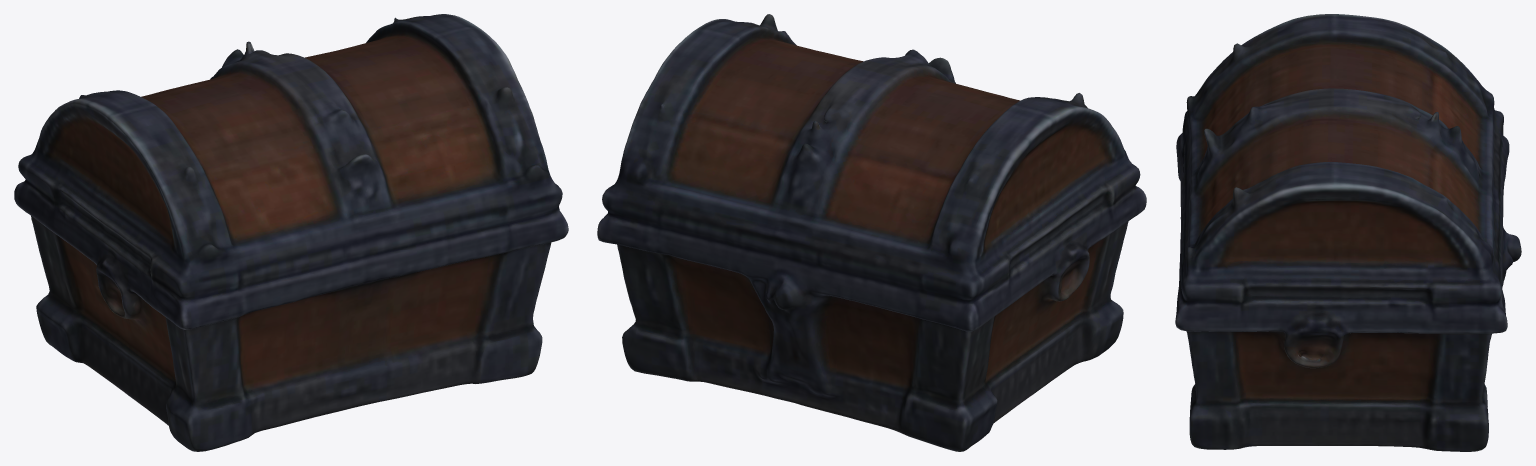
Rendered from 2e5ef06cce29_game_asset_treasure.fbx.
3 views of the same model, side by side, from view 1: azimuth 30°, elevation 25°; view 2: azimuth 150°, elevation 25°; view 3: azimuth 270°, elevation 25° (orthographic). The views are drawn at different scales.
Visible parts, largest first — view 1: high_poly; view 2: high_poly; view 3: high_poly.
Boxes of the visible parts, x1,y1,x2,y2 form: high_poly: (14,14,568,451); high_poly: (597,14,1146,451); high_poly: (1175,14,1521,451).
Bounding box in the file's own units: 100 × 70.23 × 79.53.
